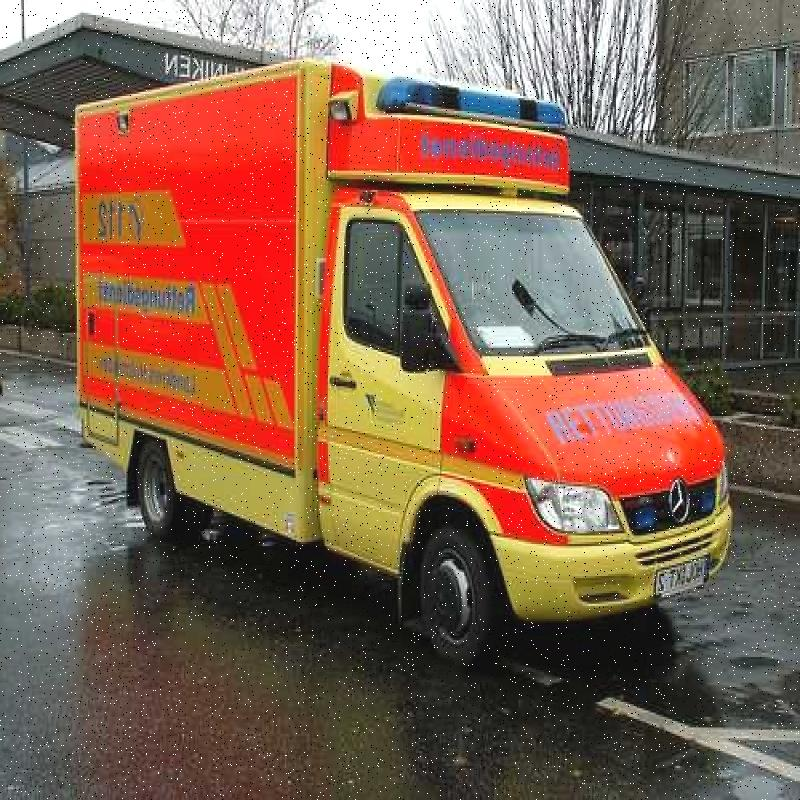AmbulanceSiren: (384, 61, 585, 130)
